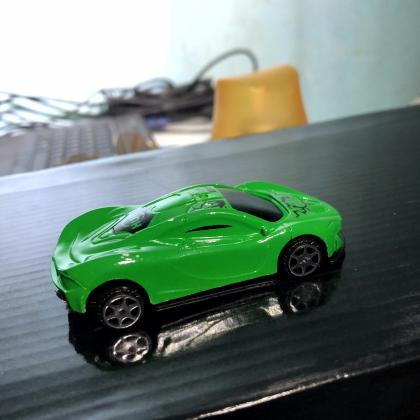Car: (46, 175, 348, 338)
